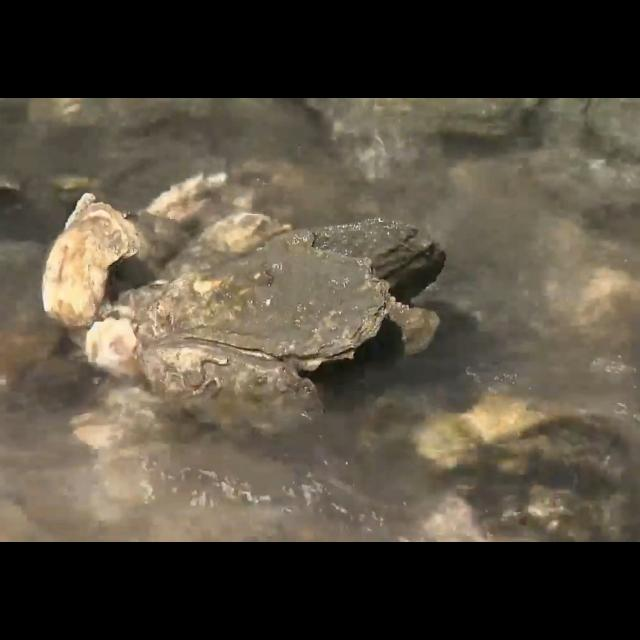Oyster-Closed: (152, 242, 394, 370), (140, 344, 328, 440), (40, 191, 140, 329), (127, 171, 257, 261), (294, 217, 448, 291), (154, 212, 292, 282), (82, 316, 142, 384)
Oyster-Open: (416, 395, 614, 473)
